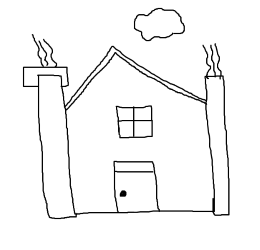closed_window: (115, 105, 153, 138)
clouds: (132, 4, 187, 41)
door: (110, 155, 160, 217)
roof: (65, 45, 205, 111)
smoking_chimney: (18, 32, 72, 116), (198, 39, 233, 127)
wall: (63, 98, 216, 220)
